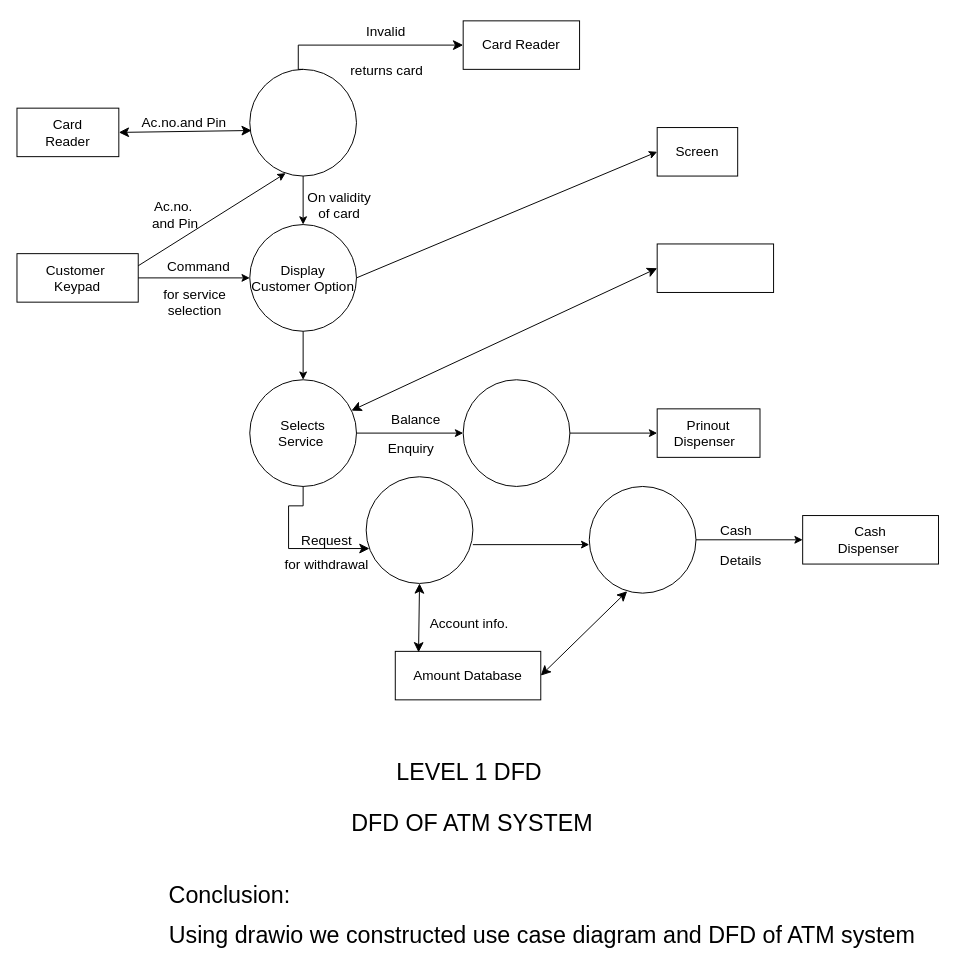
Some shapes in this 955 by 971 pixel diagram are drawn without their labels. The centre of each missing label's shape, as x and y in pixels:
Checks Availability of amount: the point at 419,529
Control System: the point at 715,267
Prepare Prinout: the point at 516,432
Update Database: the point at 642,539
Verify pin and Ac.no.: the point at 302,122
